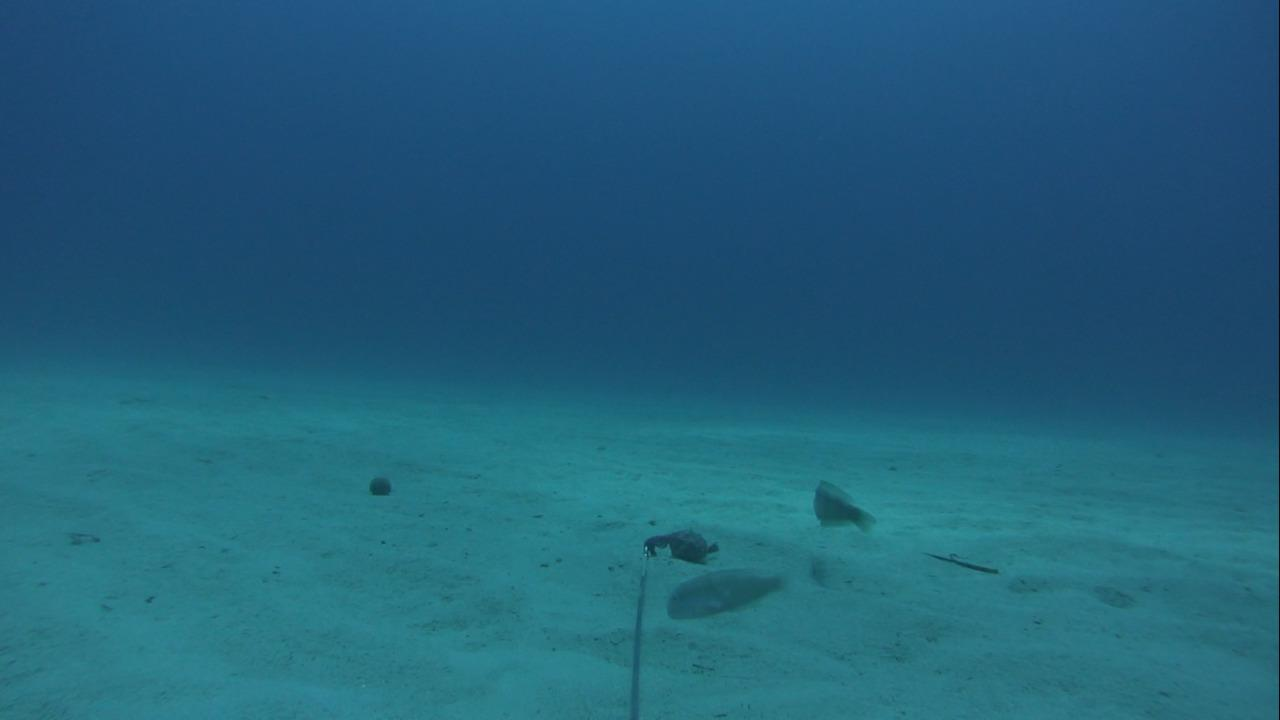raor: (664, 566, 788, 623), (806, 476, 877, 533)
